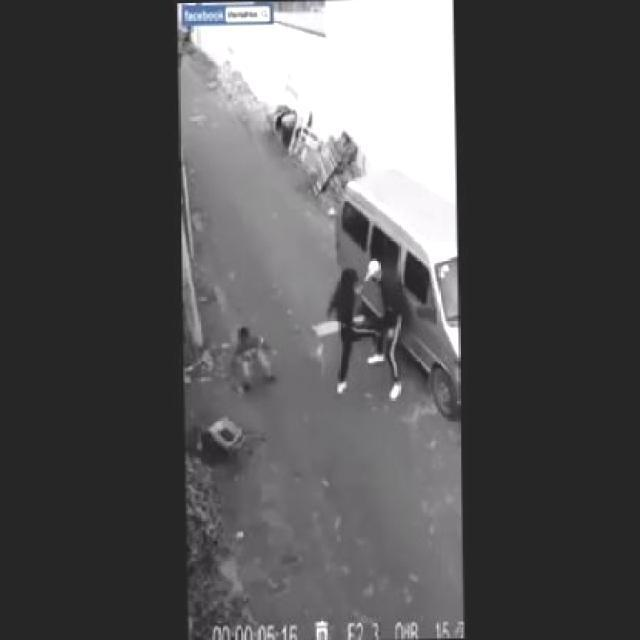fight: (318, 254, 414, 401)
non-fight: (220, 320, 283, 398)
